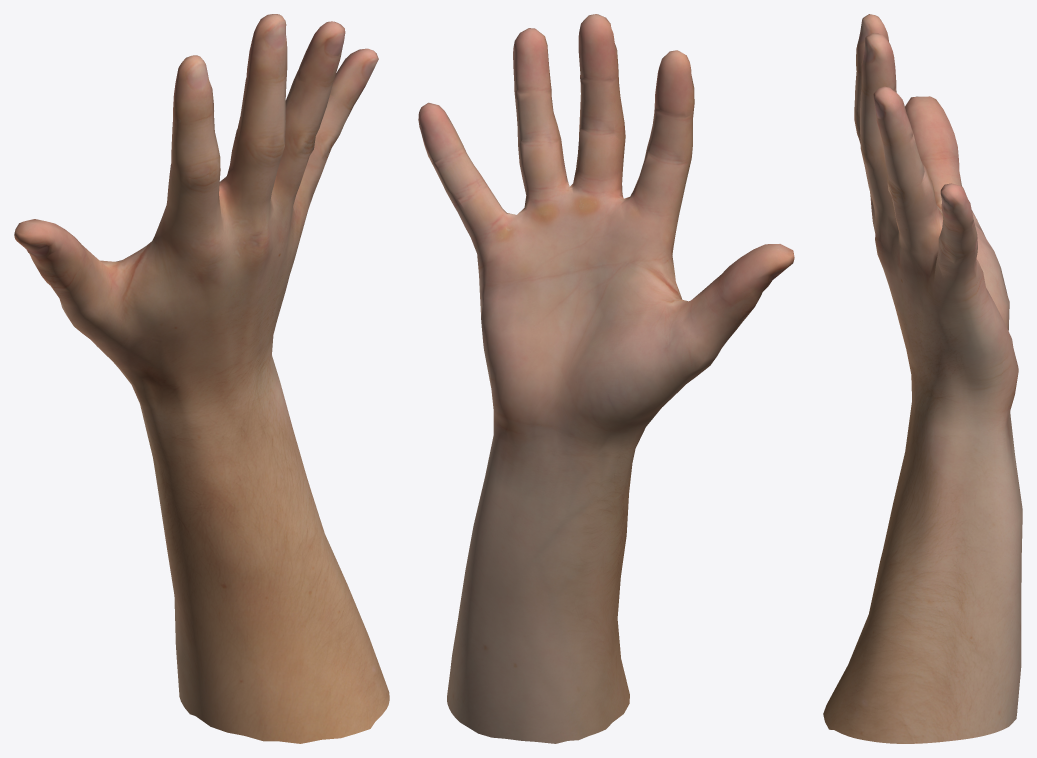
Rendered from man_hand_low_poly_model.glb.
The picture shows the model from 3 angles, left to right: view 1: azimuth 30°, elevation 25°; view 2: azimuth 150°, elevation 25°; view 3: azimuth 270°, elevation 25°; orthographic projection. The views are drawn at different scales.
Visible parts, largest first — view 1: Object_2; view 2: Object_2; view 3: Object_2.
Part boxes in pixels (bbox=[...]): Object_2: bbox=[14, 14, 389, 743]; Object_2: bbox=[418, 14, 794, 743]; Object_2: bbox=[823, 14, 1022, 743].
Bounding box in the file's own units: 30.02 × 54.55 × 14.87.
1 material, 1 textured.
